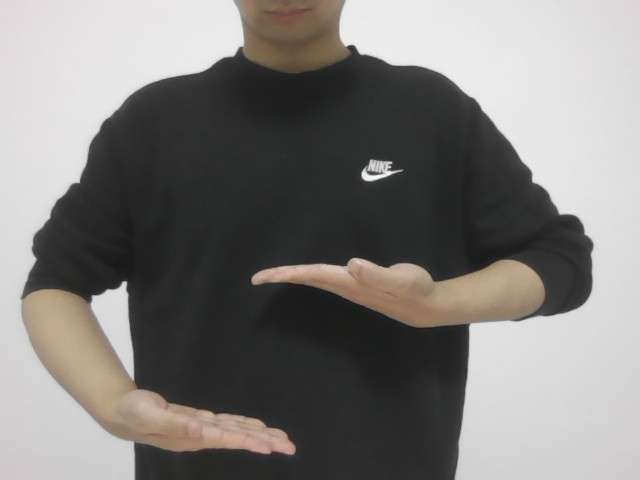happy: (122, 252, 442, 466)
